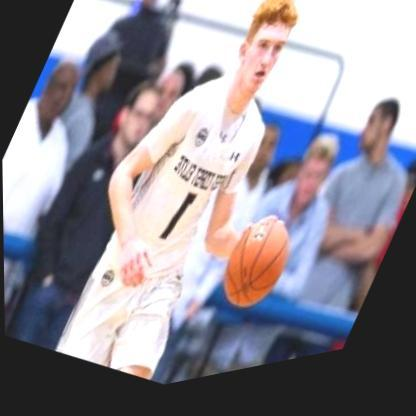basketball: (199, 208, 306, 339)
